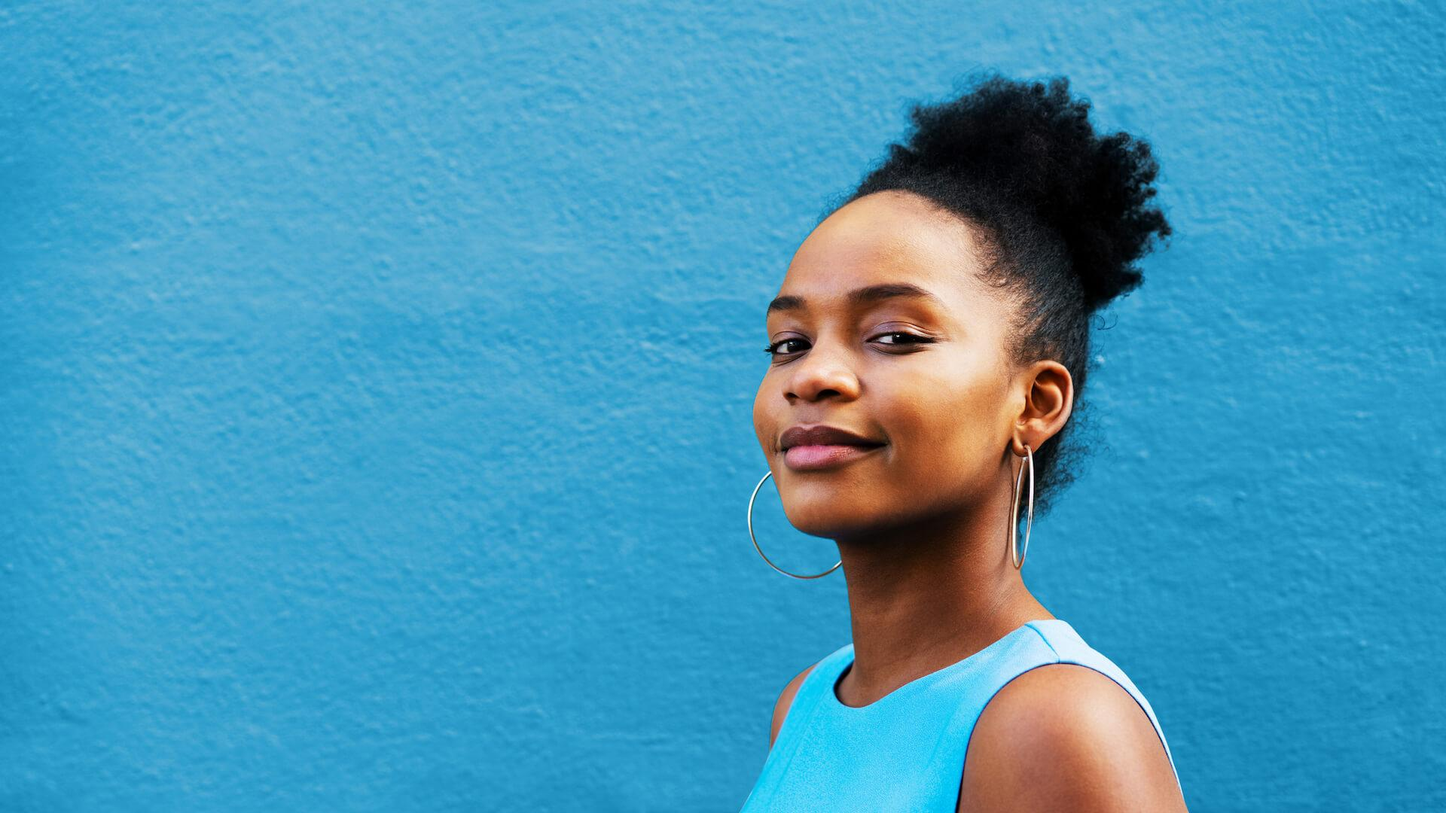Persons: (729, 73, 1204, 625)
